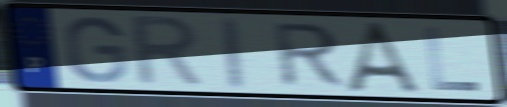A: (343, 20, 430, 97)
G: (62, 14, 130, 85)
I: (222, 14, 251, 93)
L: (421, 25, 483, 93)
R: (129, 13, 209, 90), (272, 21, 349, 89)
